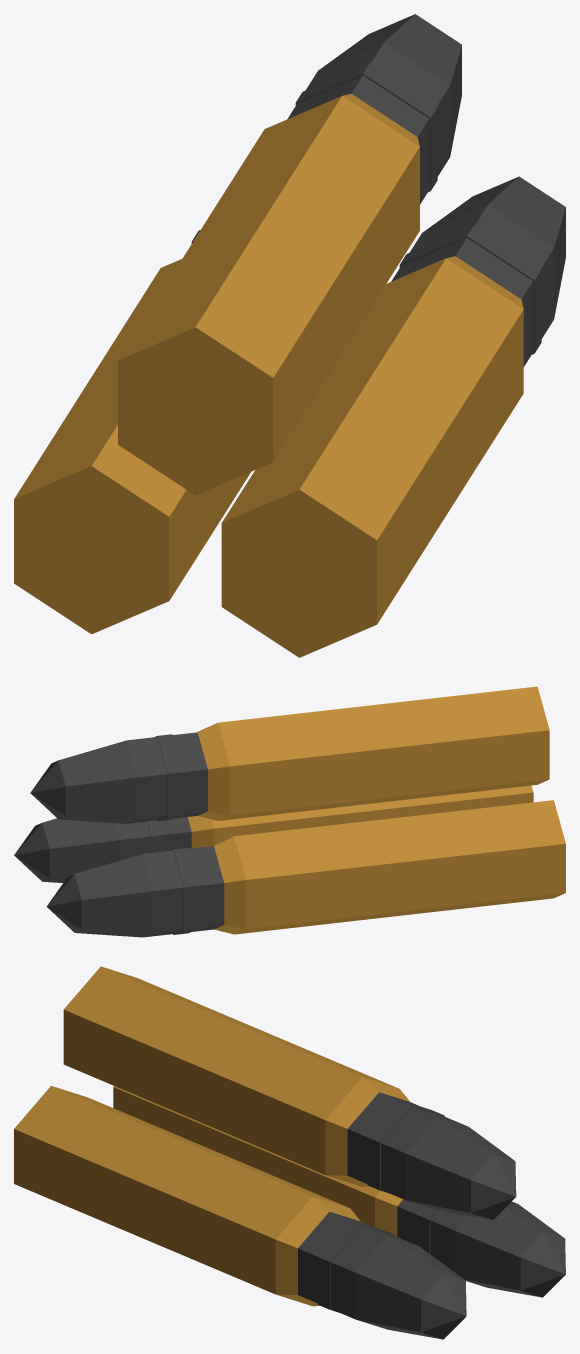
File: ce_ammo_heavy_ap_b.obj
The picture shows the model from 3 angles, top to bottom: view 1: azimuth 30°, elevation 25°; view 2: azimuth 150°, elevation 25°; view 3: azimuth 270°, elevation 25°; orthographic projection. The views are drawn at different scales.
Visible parts, largest first — view 1: ce_ammo_heavy_ap_b_14, ce_ammo_heavy_ap_b_7, ce_ammo_heavy_ap_b_0, ce_ammo_heavy_ap_b_19, ce_ammo_heavy_ap_b_12, ce_ammo_heavy_ap_b_18, ce_ammo_heavy_ap_b_11, ce_ammo_heavy_ap_b_16, ce_ammo_heavy_ap_b_9, ce_ammo_heavy_ap_b_10, ce_ammo_heavy_ap_b_17; view 2: ce_ammo_heavy_ap_b_14, ce_ammo_heavy_ap_b_0, ce_ammo_heavy_ap_b_7, ce_ammo_heavy_ap_b_5, ce_ammo_heavy_ap_b_19, ce_ammo_heavy_ap_b_12, ce_ammo_heavy_ap_b_18, ce_ammo_heavy_ap_b_4, ce_ammo_heavy_ap_b_1, ce_ammo_heavy_ap_b_2, ce_ammo_heavy_ap_b_15, ce_ammo_heavy_ap_b_16 (+9 smaller); view 3: ce_ammo_heavy_ap_b_14, ce_ammo_heavy_ap_b_7, ce_ammo_heavy_ap_b_0, ce_ammo_heavy_ap_b_19, ce_ammo_heavy_ap_b_12, ce_ammo_heavy_ap_b_5, ce_ammo_heavy_ap_b_8, ce_ammo_heavy_ap_b_15, ce_ammo_heavy_ap_b_18, ce_ammo_heavy_ap_b_11, ce_ammo_heavy_ap_b_6, ce_ammo_heavy_ap_b_13 (+9 smaller).
Boxes of the visible parts, x1,y1,x2,y2 form: ce_ammo_heavy_ap_b_14: (118, 96, 419, 495); ce_ammo_heavy_ap_b_7: (221, 258, 523, 657); ce_ammo_heavy_ap_b_0: (14, 259, 250, 634); ce_ammo_heavy_ap_b_19: (318, 14, 461, 155); ce_ammo_heavy_ap_b_12: (422, 176, 565, 318); ce_ammo_heavy_ap_b_18: (306, 42, 450, 176); ce_ammo_heavy_ap_b_11: (410, 205, 553, 338); ce_ammo_heavy_ap_b_16: (287, 75, 429, 204); ce_ammo_heavy_ap_b_9: (391, 238, 532, 366); ce_ammo_heavy_ap_b_10: (399, 225, 541, 354); ce_ammo_heavy_ap_b_17: (295, 63, 437, 192); ce_ammo_heavy_ap_b_14: (218, 686, 549, 820); ce_ammo_heavy_ap_b_0: (234, 800, 565, 934); ce_ammo_heavy_ap_b_7: (211, 785, 533, 845); ce_ammo_heavy_ap_b_5: (75, 854, 153, 937); ce_ammo_heavy_ap_b_19: (58, 740, 136, 823); ce_ammo_heavy_ap_b_12: (42, 818, 120, 882); ce_ammo_heavy_ap_b_18: (126, 737, 167, 823); ce_ammo_heavy_ap_b_4: (143, 850, 183, 937); ce_ammo_heavy_ap_b_1: (213, 836, 246, 934); ce_ammo_heavy_ap_b_2: (189, 846, 224, 931); ce_ammo_heavy_ap_b_15: (197, 723, 229, 820); ce_ammo_heavy_ap_b_16: (172, 732, 207, 818); ce_ammo_heavy_ap_b_14: (63, 966, 398, 1174); ce_ammo_heavy_ap_b_7: (14, 1086, 347, 1294); ce_ammo_heavy_ap_b_0: (113, 1086, 380, 1226); ce_ammo_heavy_ap_b_19: (405, 1117, 514, 1219); ce_ammo_heavy_ap_b_12: (356, 1236, 465, 1339); ce_ammo_heavy_ap_b_5: (455, 1202, 564, 1297); ce_ammo_heavy_ap_b_8: (275, 1196, 360, 1306); ce_ammo_heavy_ap_b_15: (325, 1077, 409, 1186); ce_ammo_heavy_ap_b_18: (381, 1106, 467, 1199); ce_ammo_heavy_ap_b_11: (331, 1226, 416, 1319); ce_ammo_heavy_ap_b_6: (520, 1231, 565, 1297); ce_ammo_heavy_ap_b_13: (421, 1273, 466, 1339).
Size of the model in its own units: 0.8643 by 0.36 by 0.8643.
